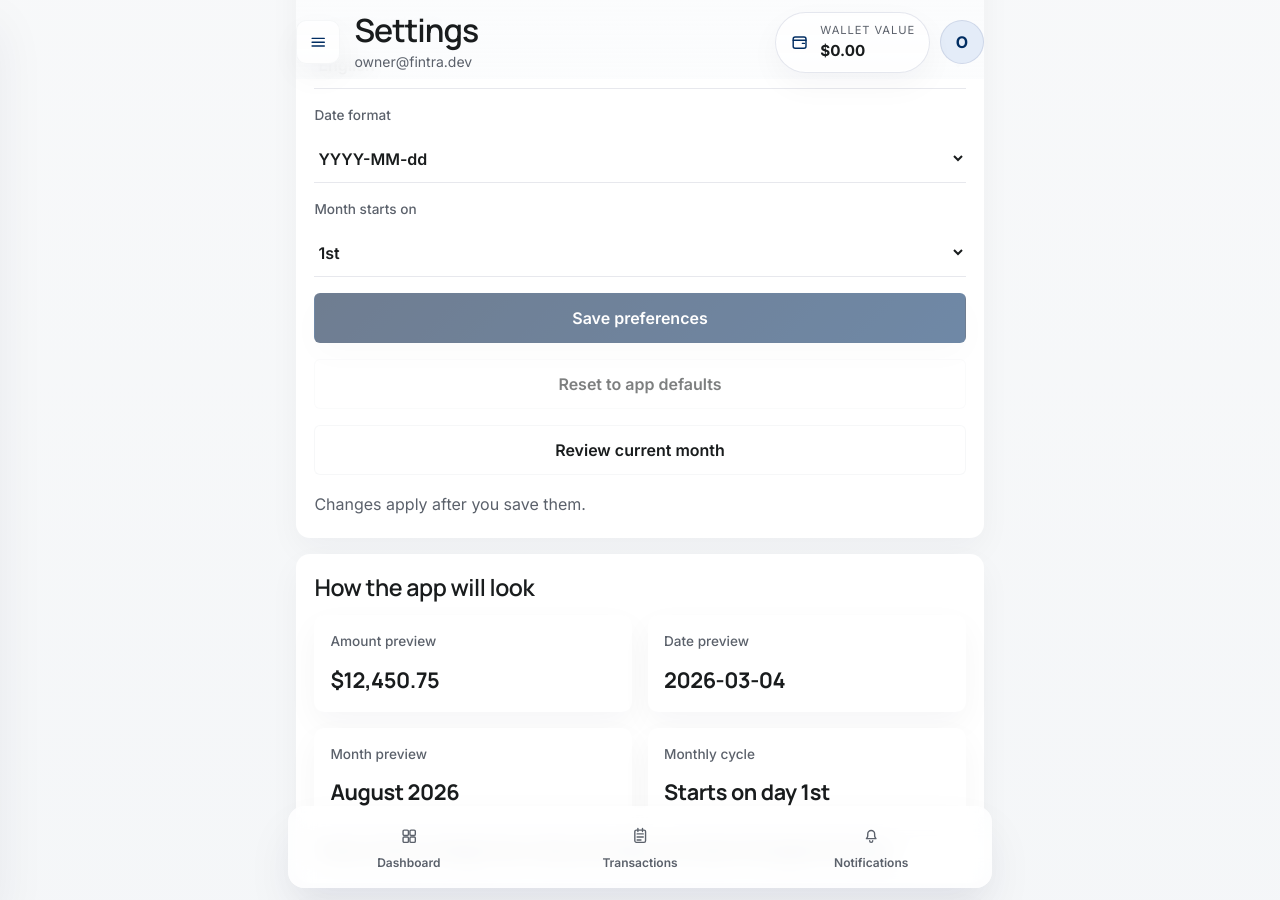
it: SettingsPage › opens the month review flow from settings
This screenshot has width=1280, height=900.
(page scrolled)
Click the button "Review current month".
click(640, 450)  # box [314,425,966,475]
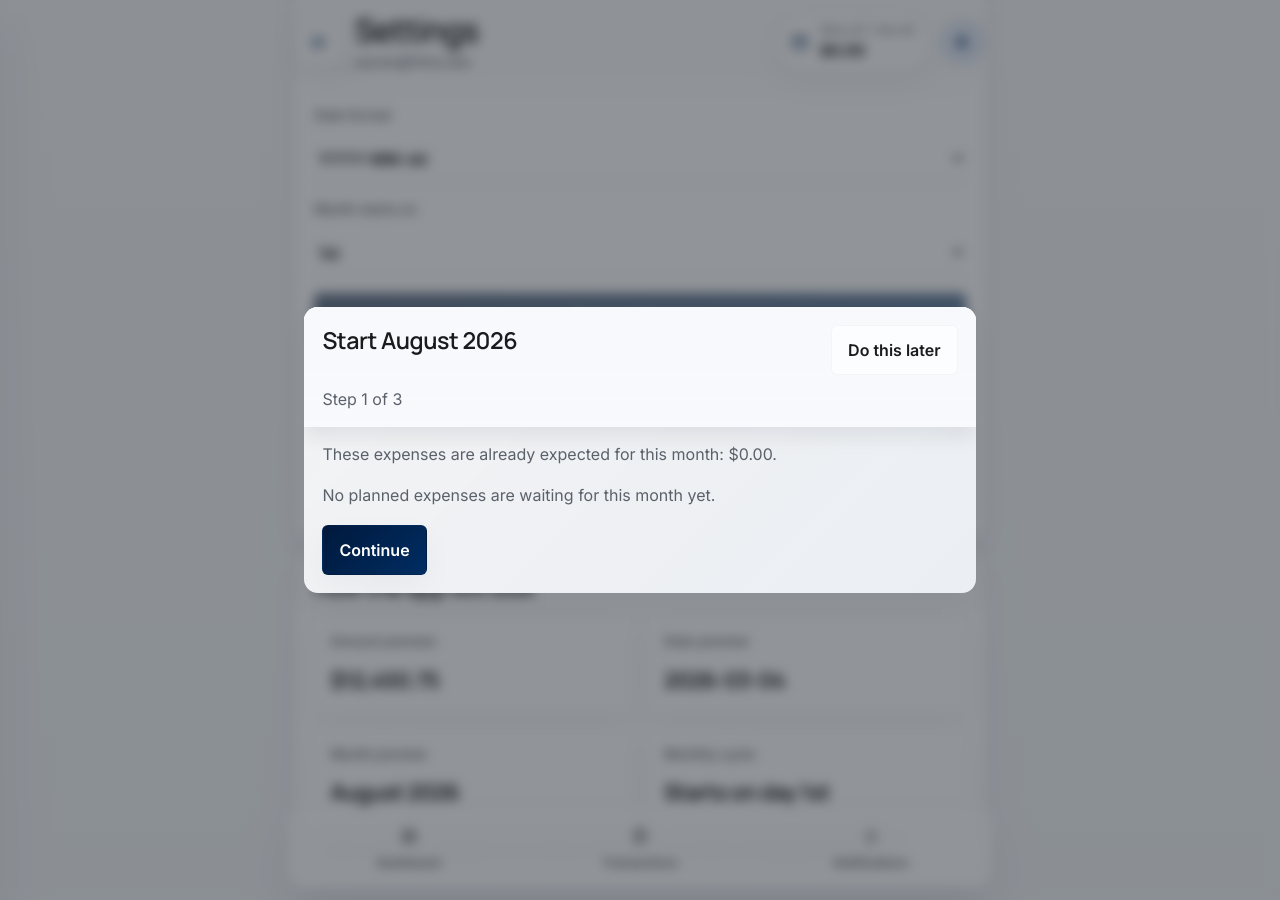
Expected: the dialog is shown, [304,307,976,593]
Expected: the text "Step 1 of 3" is shown, [322,389,402,409]
